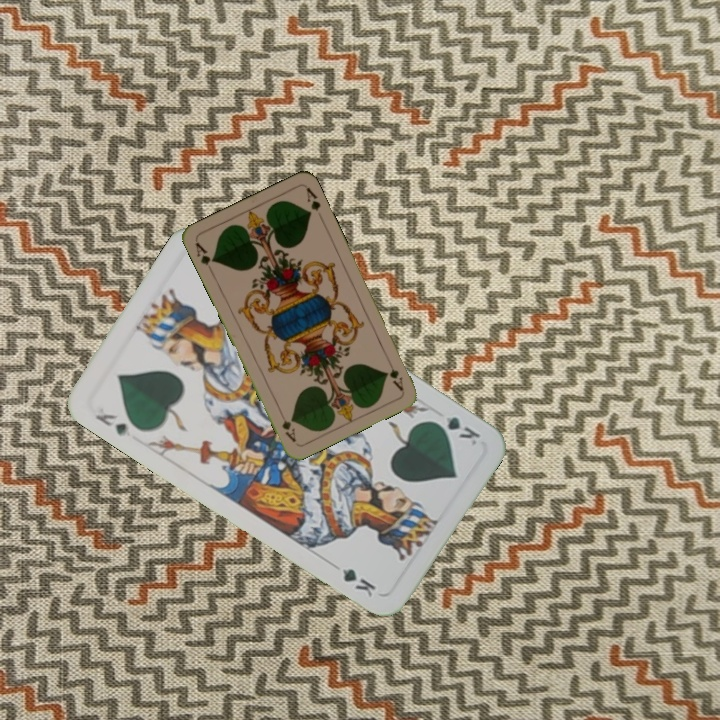GA: (191, 238, 217, 276), (385, 365, 406, 394)
GK: (427, 412, 483, 449), (91, 409, 134, 440)
